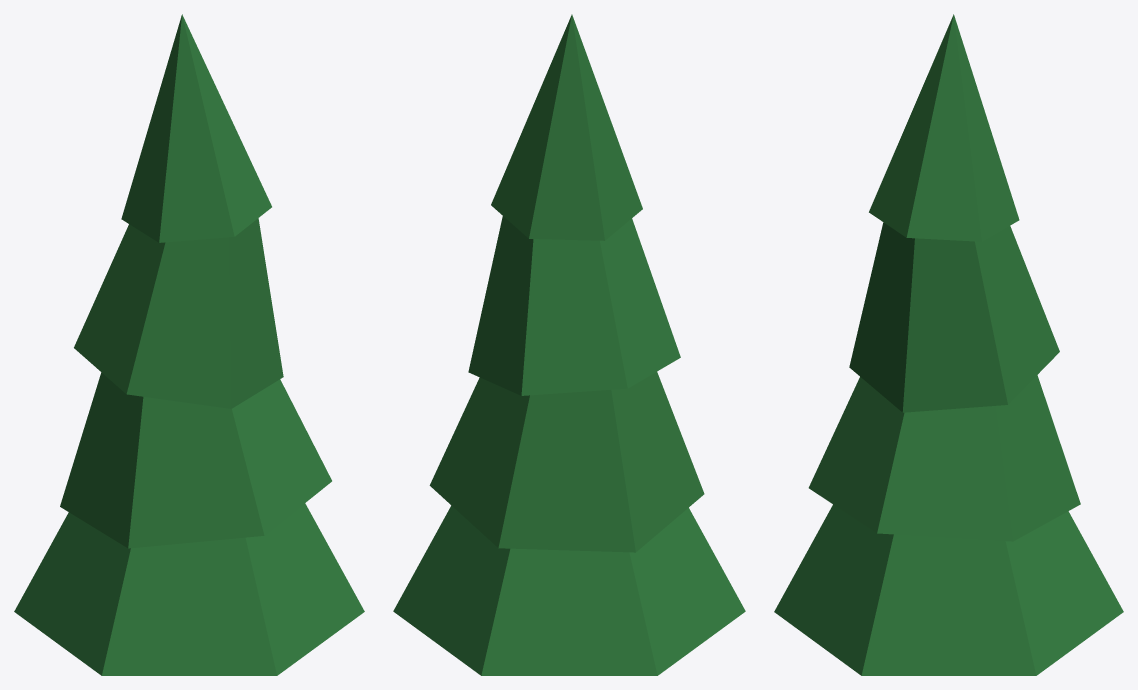
File: tree_pineGroundB.glb
The picture shows the model from 3 angles, left to right: view 1: azimuth 30°, elevation 25°; view 2: azimuth 150°, elevation 25°; view 3: azimuth 270°, elevation 25°; orthographic projection.
Visible parts, largest first — view 1: tree_pineGroundB; view 2: tree_pineGroundB; view 3: tree_pineGroundB.
Part boxes in pixels (x1,y1,x2,y2): tree_pineGroundB: (14, 14, 364, 675); tree_pineGroundB: (393, 14, 745, 675); tree_pineGroundB: (774, 14, 1123, 675).
Bounding box in the file's own units: 0.4804 × 1.04 × 0.5547.
